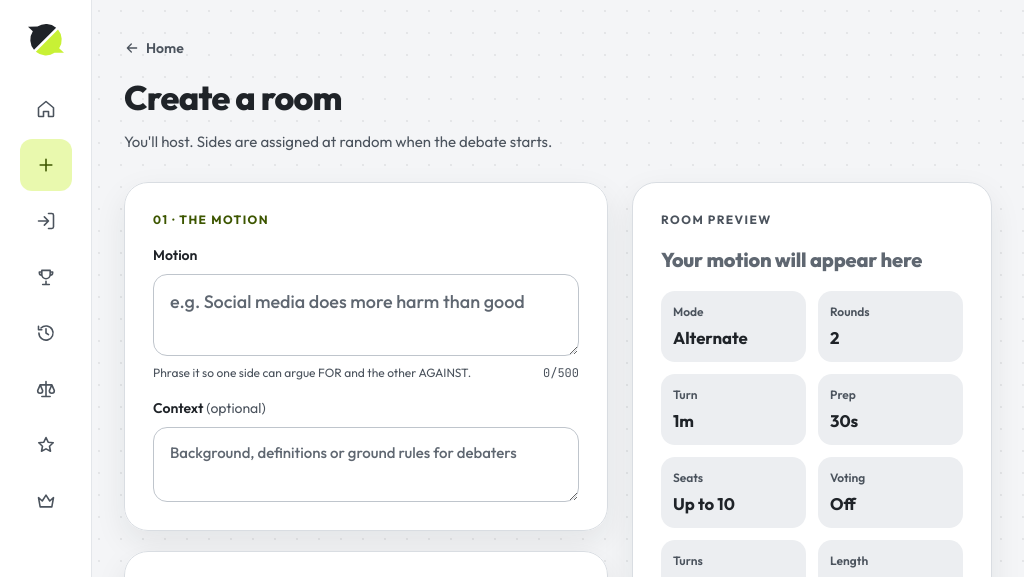
Test: CreateRoom › topic character counter › updates counter as user types
The image size is (1024, 577).
In the text box with placeholder "e.g. Social media does more harm than good": (366, 315) x1=153 y1=274 x2=579 y2=356, type "Hello"
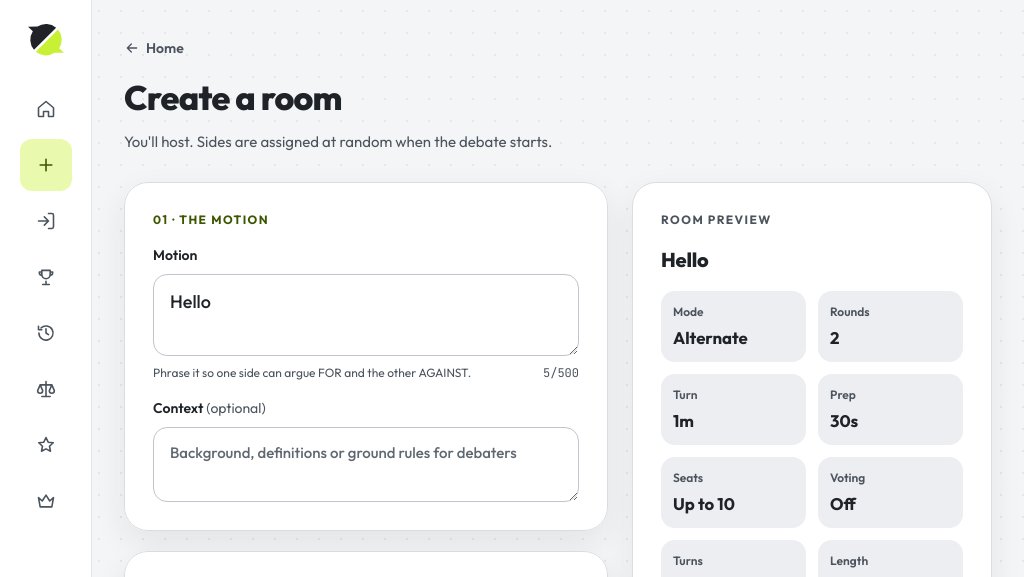
Expected: the text "5/500" is shown, x1=543 y1=364 x2=579 y2=382
